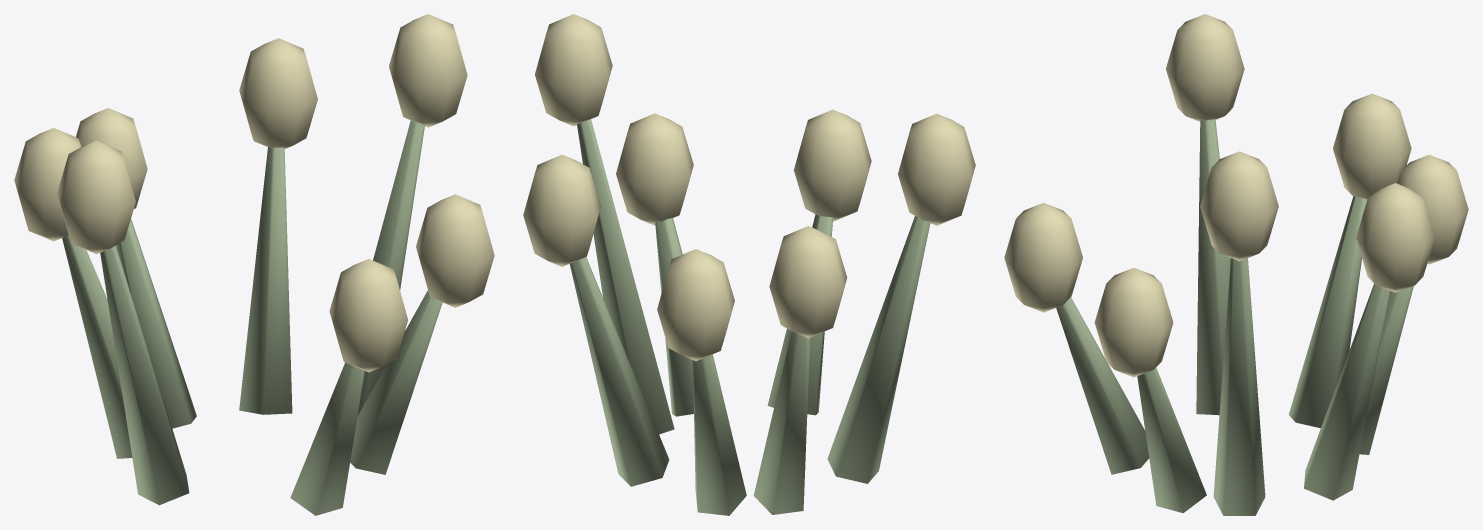
The model's file is Tuft1.fbx.
3 views of the same model, side by side, from view 1: azimuth 30°, elevation 25°; view 2: azimuth 150°, elevation 25°; view 3: azimuth 270°, elevation 25° (orthographic). The views are drawn at different scales.
Parts seen in each view (by area): view 1: Tuft1; view 2: Tuft1; view 3: Tuft1.
Boxes of the visible parts, bbox=[...] form: Tuft1: bbox=[14, 14, 494, 515]; Tuft1: bbox=[523, 14, 975, 515]; Tuft1: bbox=[1004, 14, 1468, 515].
Bounding box in the file's own units: 77.3 × 76.56 × 71.85.
